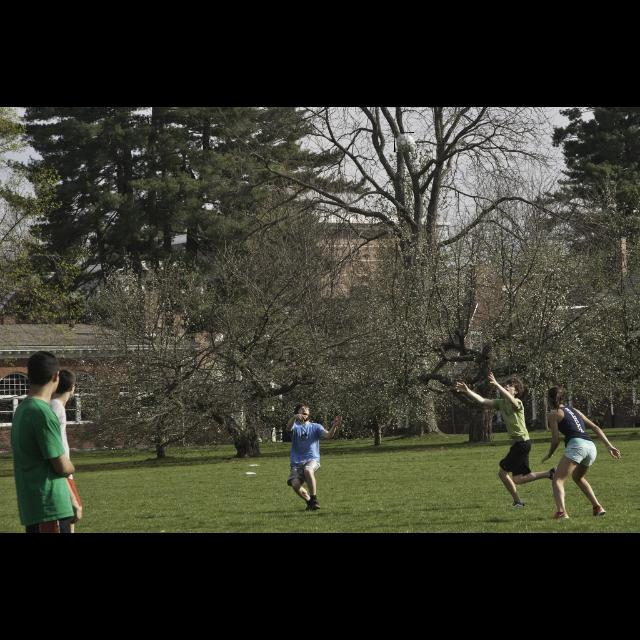Football: (394, 132, 414, 152)
